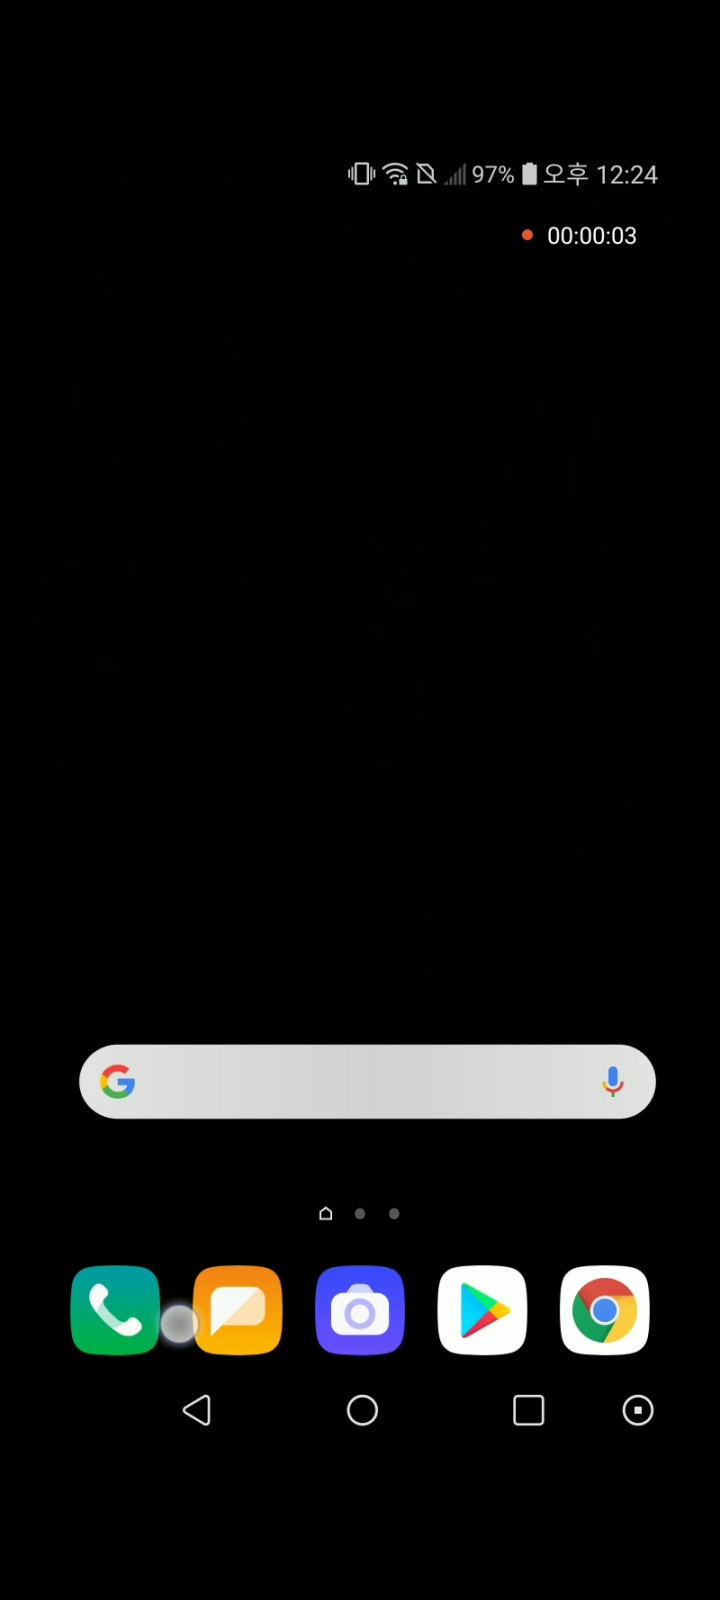Cursor: (156, 1303, 201, 1348)
